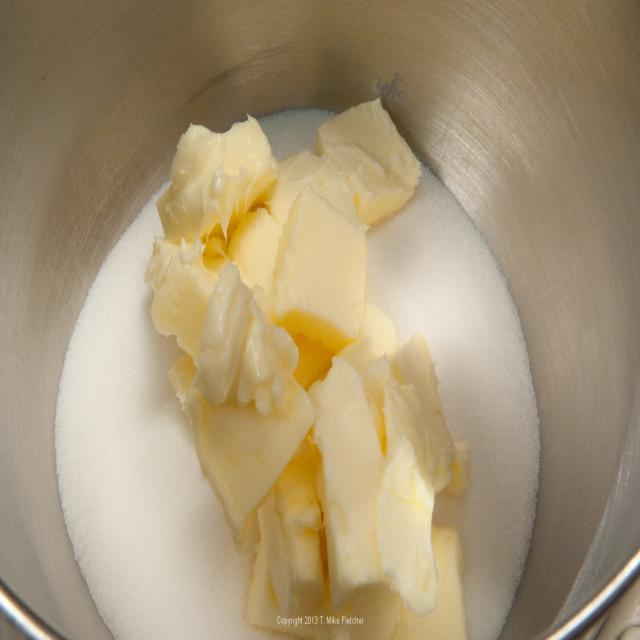Butter: (156, 102, 467, 640)
